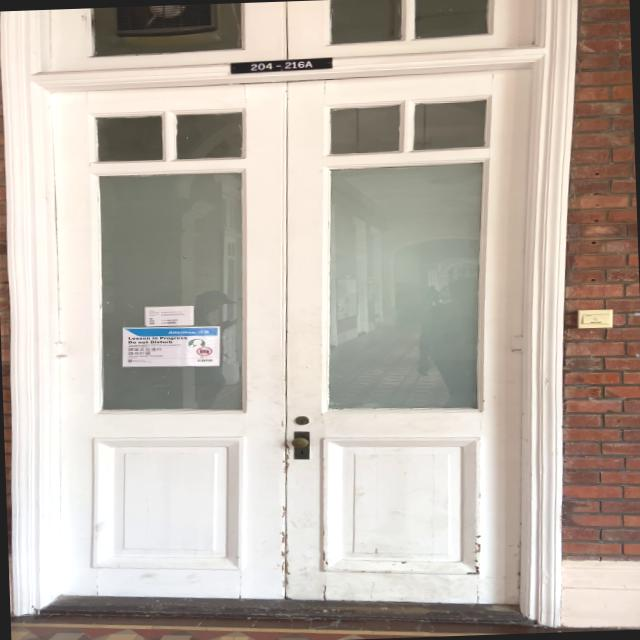room204: (225, 52, 336, 75)
